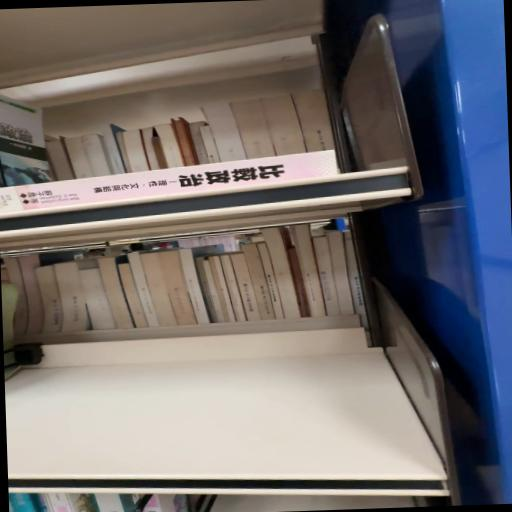flat: (1, 151, 337, 218)
